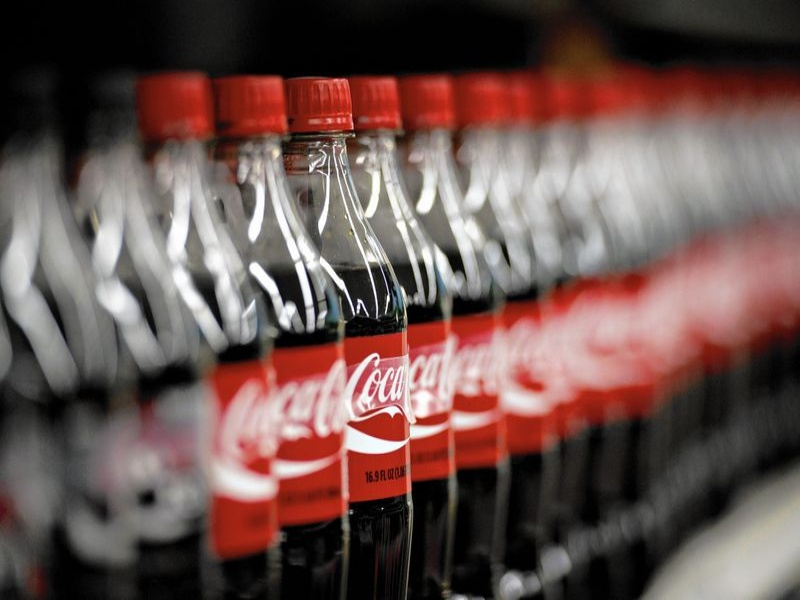Plastic bottle: (228, 39, 443, 593)
